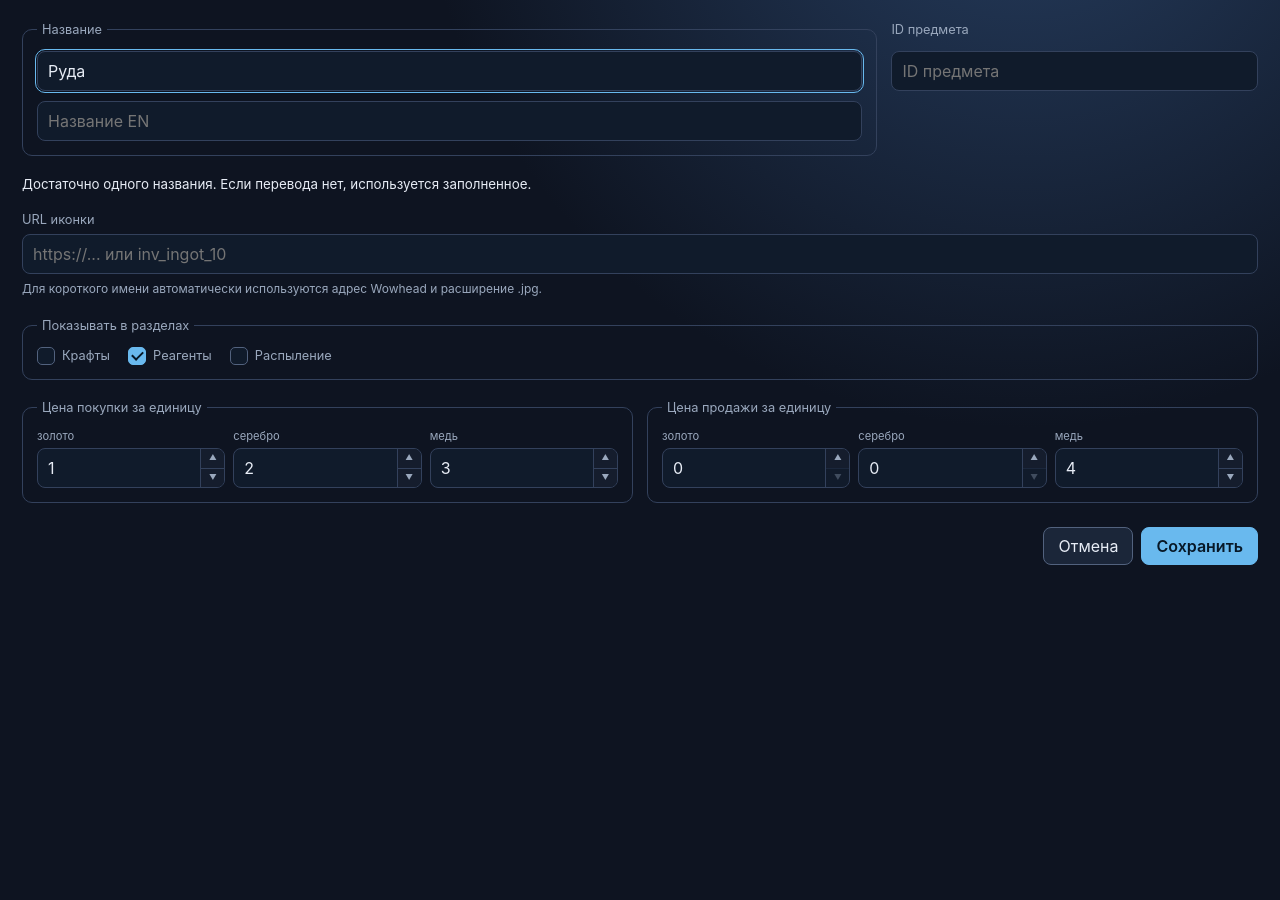
it: ItemForm › отклоняет некорректный игровой ID -1
Type "-1" into the field labelled "ID предмета" at (1075, 71), box top-left (891, 51), bottom-right (1258, 91)
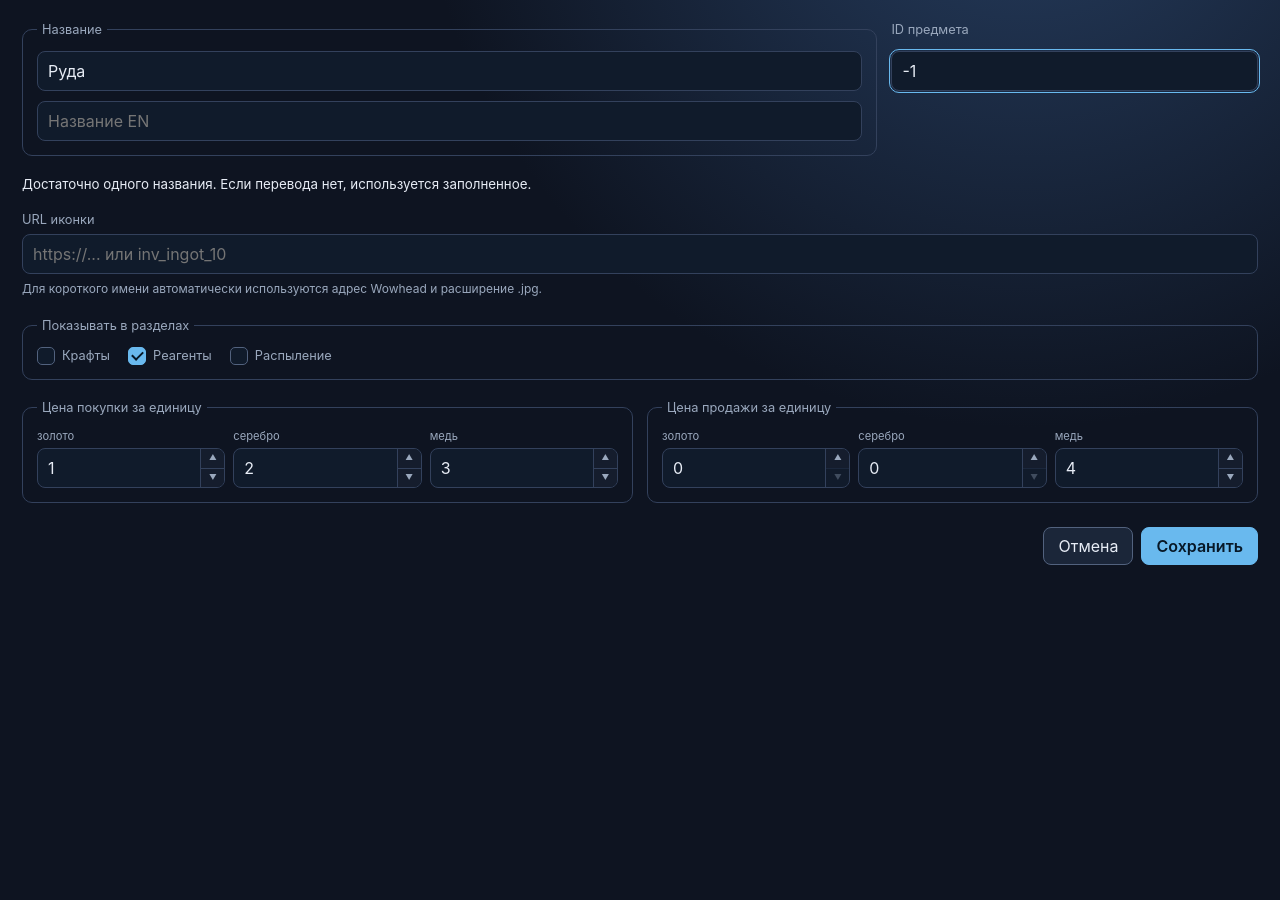
Click the button "Сохранить" at (1200, 546), box top-left (1142, 527), bottom-right (1258, 565)
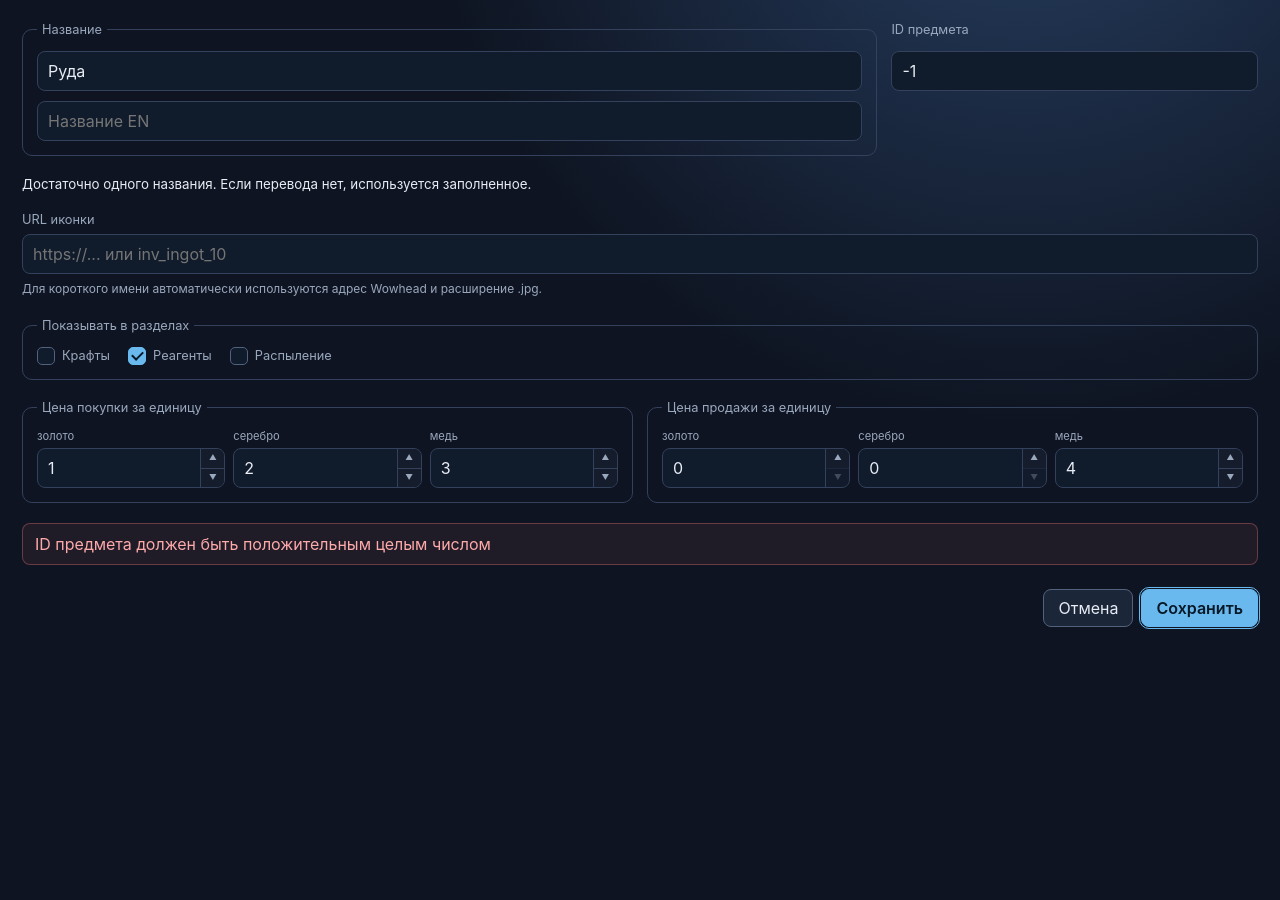
expect the text "ID предмета должен быть положительным целым числом" is shown: met, box top-left (22, 523), bottom-right (1258, 565)
